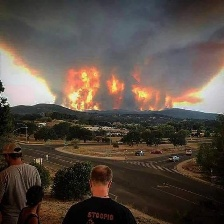fire: (65, 69, 162, 111)
smoke: (3, 3, 224, 91)
